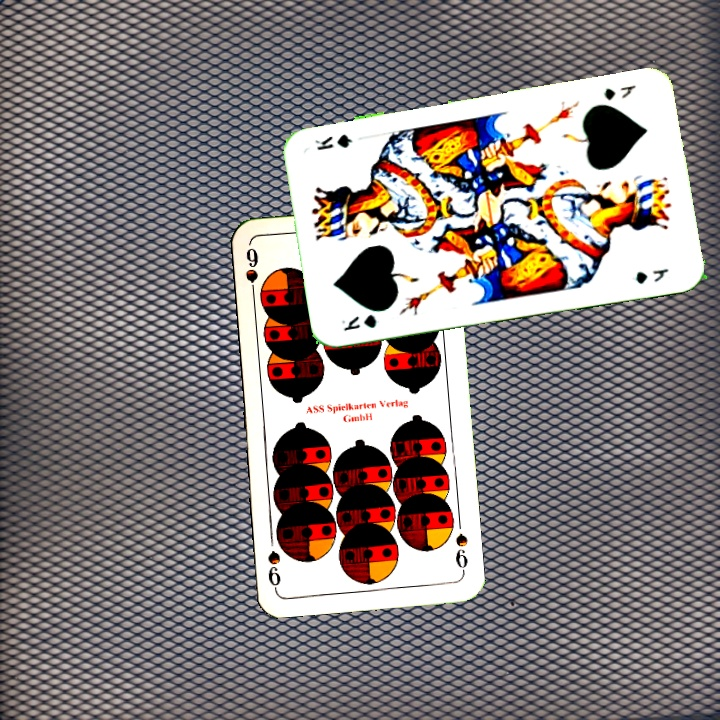GK: (337, 310, 379, 334), (600, 80, 638, 103)
S9: (241, 243, 261, 303), (451, 529, 471, 577)
